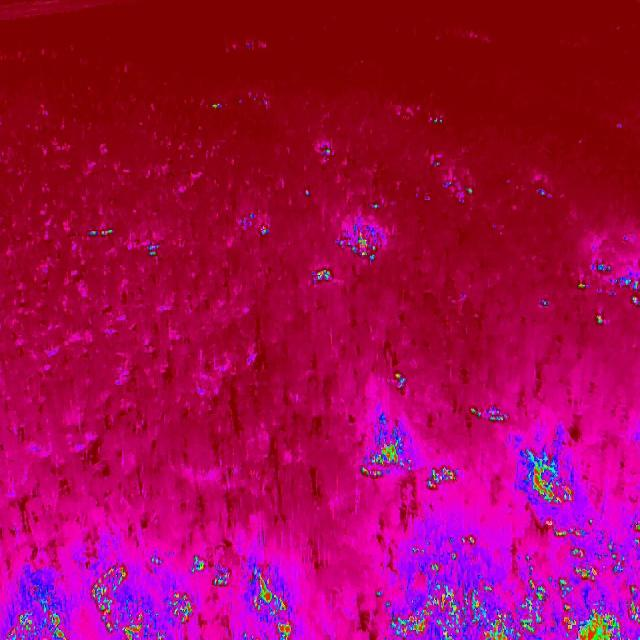fire: (375, 520, 640, 639), (0, 558, 303, 640), (358, 423, 456, 502), (300, 211, 393, 291), (575, 252, 640, 326), (520, 450, 576, 514), (466, 401, 510, 431), (82, 224, 118, 246), (392, 367, 409, 395)
